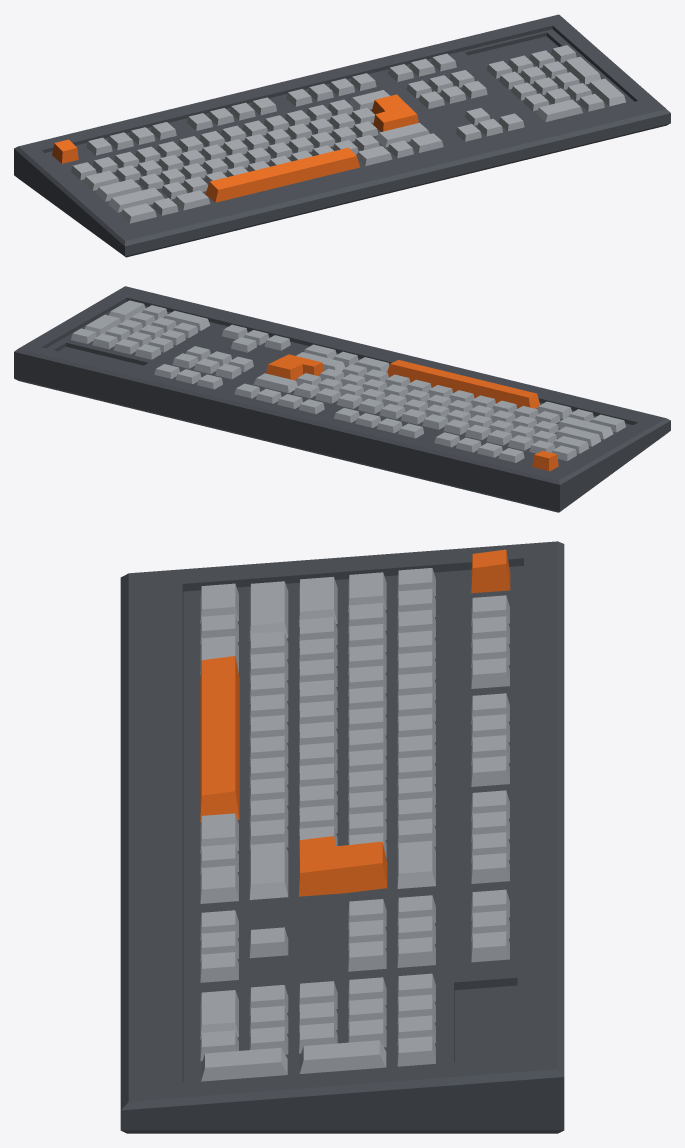
The model's file is OpsKeyboard.fbx.
The picture shows the model from 3 angles, top to bottom: view 1: azimuth 30°, elevation 25°; view 2: azimuth 150°, elevation 25°; view 3: azimuth 270°, elevation 25°; orthographic projection. The views are drawn at different scales.
Parts seen in each view (by area): view 1: Keyboard_Body, Key_Space, Key_Enter, Key_Esc; view 2: Keyboard_Body, Key_Space, Key_Enter, Key_Esc; view 3: Keyboard_Body, Key_Space, Key_Enter, Key_Esc.
Boxes of the visible parts, x1=… form: Keyboard_Body: x1=14, y1=14, x2=670, y2=257; Key_Space: x1=205, y1=147, x2=359, y2=202; Key_Enter: x1=372, y1=94, x2=418, y2=131; Key_Esc: x1=52, y1=139, x2=78, y2=163; Keyboard_Body: x1=14, y1=286, x2=670, y2=512; Key_Space: x1=387, y1=360, x2=540, y2=408; Key_Enter: x1=266, y1=354, x2=323, y2=380; Key_Esc: x1=532, y1=450, x2=558, y2=471; Keyboard_Body: x1=120, y1=541, x2=564, y2=1133; Key_Space: x1=200, y1=656, x2=239, y2=822; Key_Enter: x1=299, y1=836, x2=387, y2=896; Key_Esc: x1=471, y1=549, x2=510, y2=593.
Size of the model in its own units: 0.45 by 0.0311 by 0.1583.
